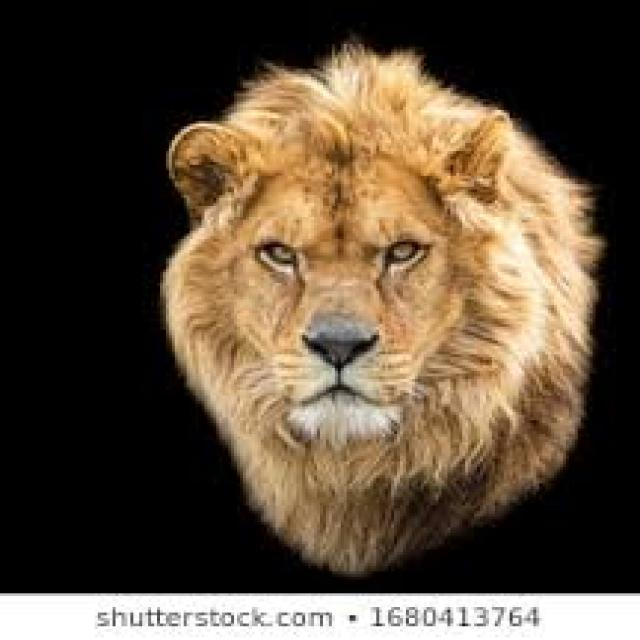Lion: (159, 55, 587, 581)
